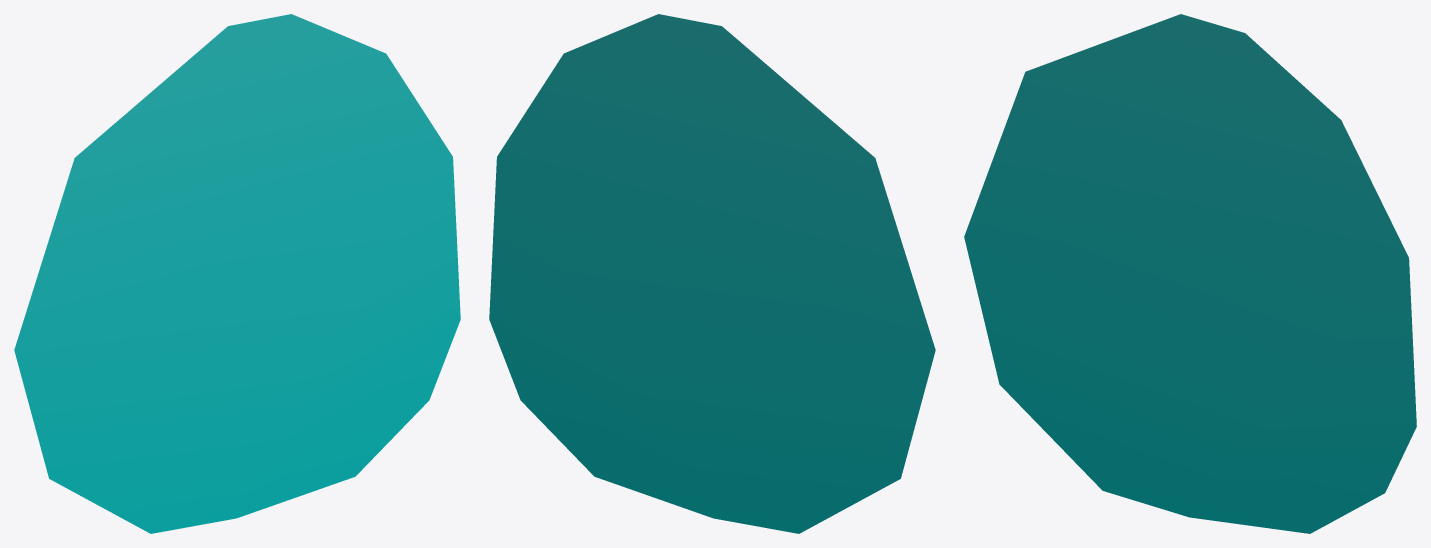
File: Boxwood_wfypfa3ha_Low_wfypfa3ha_VarH_LOD3.fbx
3 views of the same model, side by side, from view 1: azimuth 30°, elevation 25°; view 2: azimuth 150°, elevation 25°; view 3: azimuth 330°, elevation 25° (orthographic).
Visible parts, largest first — view 1: _96wz_VarH_LOD5; view 2: _96wz_VarH_LOD5; view 3: _96wz_VarH_LOD5.
Part boxes in pixels (x1,y1,x2,y2): _96wz_VarH_LOD5: (14,14,460,533); _96wz_VarH_LOD5: (489,14,935,533); _96wz_VarH_LOD5: (964,14,1416,533).
Size of the model in its own units: 46.37 by 49.06 by 0.
